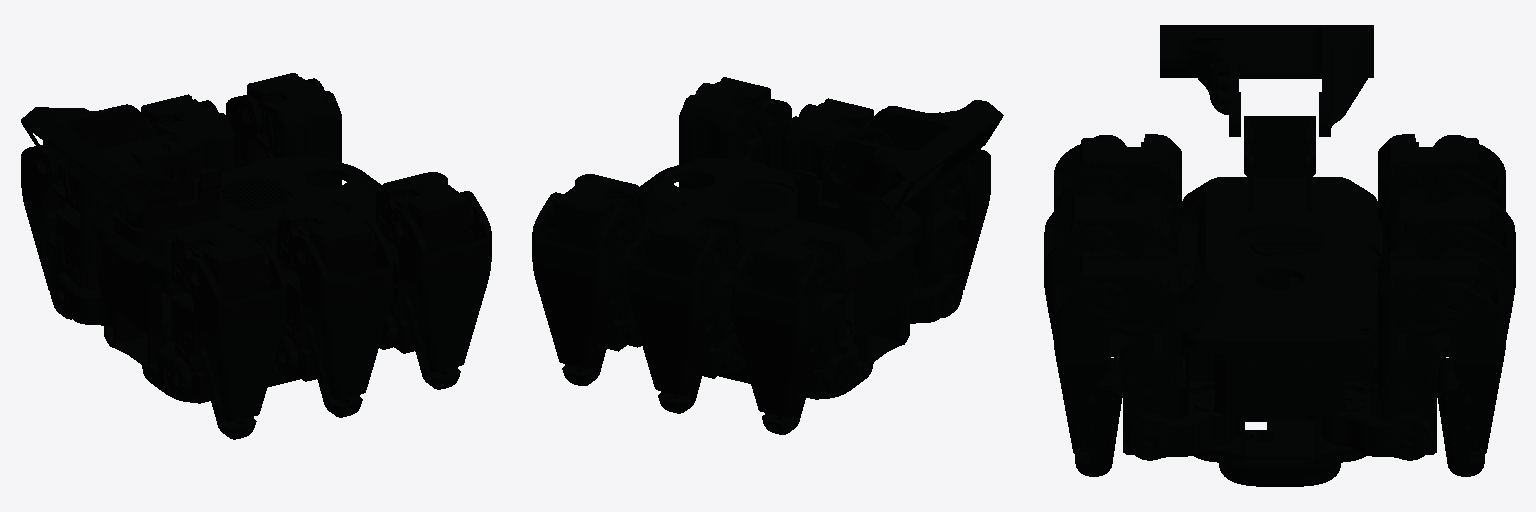
robot.urdf — s6lr_tracking_controller:
<?xml version="1.0"?>
<!--
  Browser URDF generated from Tracking_controller/xml/S6LR_v1.xml.
  MJCF meshes are authored in parent CAD frames. Each visual offset below is
  the negative of its true hinge pivot so the mesh rotates about the same axis
  as the controller model without the previous double translation.
-->
<robot name="s6lr_tracking_controller">
  <material name="robot_black">
    <color rgba="0.025 0.03 0.03 1"/>
  </material>
  <link name="torso">

    <visual name="torso_1">
      <origin xyz="0 0 0" rpy="0 0 0"/>
      <geometry>
        <mesh filename="xml_Files/vim_top_cover.stl" scale="0.001 0.001 0.001"/>
      </geometry>
      <material name="robot_black"/>
    </visual>

    <visual name="torso_2">
      <origin xyz="0 0 0" rpy="0 0 0"/>
      <geometry>
        <mesh filename="xml_Files/vim base.stl" scale="0.001 0.001 0.001"/>
      </geometry>
      <material name="robot_black"/>
    </visual>

    <visual name="torso_3">
      <origin xyz="0 0 0" rpy="0 0 0"/>
      <geometry>
        <mesh filename="xml_Files/main body mid.stl" scale="0.001 0.001 0.001"/>
      </geometry>
      <material name="robot_black"/>
    </visual>

    <visual name="torso_4">
      <origin xyz="0 0 0" rpy="0 0 0"/>
      <geometry>
        <mesh filename="xml_Files/main body lower.stl" scale="0.001 0.001 0.001"/>
      </geometry>
      <material name="robot_black"/>
    </visual>

    <visual name="torso_5">
      <origin xyz="0 0 0" rpy="0 0 0"/>
      <geometry>
        <mesh filename="xml_Files/lower base.stl" scale="0.001 0.001 0.001"/>
      </geometry>
      <material name="robot_black"/>
    </visual>

    <visual name="torso_6">
      <origin xyz="0 0 0" rpy="0 0 0"/>
      <geometry>
        <mesh filename="xml_Files/camera holder A.stl" scale="0.001 0.001 0.001"/>
      </geometry>
      <material name="robot_black"/>
    </visual>

    <visual name="torso_7">
      <origin xyz="0 0 0" rpy="0 0 0"/>
      <geometry>
        <mesh filename="xml_Files/camera holder B.stl" scale="0.001 0.001 0.001"/>
      </geometry>
      <material name="robot_black"/>
    </visual>

    <visual name="torso_8">
      <origin xyz="0 0 0" rpy="0 0 0"/>
      <geometry>
        <mesh filename="xml_Files/motor pitch roll holder.stl" scale="0.001 0.001 0.001"/>
      </geometry>
      <material name="robot_black"/>
    </visual>

    <visual name="torso_9">
      <origin xyz="0 0 0" rpy="0 0 0"/>
      <geometry>
        <mesh filename="xml_Files/base roll.stl" scale="0.001 0.001 0.001"/>
      </geometry>
      <material name="robot_black"/>
    </visual>

    <visual name="torso_10">
      <origin xyz="0 0 0" rpy="0 0 0"/>
      <geometry>
        <mesh filename="xml_Files/hip motor.stl" scale="0.001 0.001 0.001"/>
      </geometry>
      <material name="robot_black"/>
    </visual>
  </link>

  <!-- Leg 1: right front -->
  <joint name="hip_joint_1" type="revolute">
    <parent link="torso"/>
    <child link="hip_1"/>
    <origin xyz="-0.05 0.0245 -0.0415" rpy="0 0 0"/>
    <axis xyz="0 0 1"/>
    <limit lower="-1" upper="1" effort="5" velocity="3"/>
  </joint>
  <link name="hip_1">

    <visual name="hip_frame_1">
      <origin xyz="0 -0.028 0.0415" rpy="0 0 0"/>
      <geometry>
        <mesh filename="xml_Files/hip frame right mid.stl" scale="0.001 0.001 0.001"/>
      </geometry>
      <material name="robot_black"/>
    </visual>
  </link>

  <joint name="femur_joint_1" type="revolute">
    <parent link="hip_1"/>
    <child link="femur_1"/>
    <origin xyz="0 0.024 0.0115" rpy="0 0 0"/>
    <axis xyz="1 0 0"/>
    <limit lower="-3" upper="3" effort="5" velocity="3"/>
  </joint>
  <link name="femur_1">

    <visual name="femur_1_1">
      <origin xyz="0 -0.052 0.03" rpy="0 0 0"/>
      <geometry>
        <mesh filename="xml_Files/Servo femur.stl" scale="0.001 0.001 0.001"/>
      </geometry>
      <material name="robot_black"/>
    </visual>

    <visual name="femur_1_2">
      <origin xyz="0 -0.052 0.03" rpy="0 0 0"/>
      <geometry>
        <mesh filename="xml_Files/Servo tibia.stl" scale="0.001 0.001 0.001"/>
      </geometry>
      <material name="robot_black"/>
    </visual>

    <visual name="femur_1_3">
      <origin xyz="0 -0.052 0.03" rpy="0 0 0"/>
      <geometry>
        <mesh filename="xml_Files/femur frame maini right.stl" scale="0.001 0.001 0.001"/>
      </geometry>
      <material name="robot_black"/>
    </visual>
  </link>

  <joint name="tibia_joint_1" type="revolute">
    <parent link="femur_1"/>
    <child link="tibia_1"/>
    <origin xyz="0 0.0165 0.054" rpy="0 0 0"/>
    <axis xyz="1 0 0"/>
    <limit lower="-3" upper="3" effort="5" velocity="3"/>
  </joint>
  <link name="tibia_1">

    <visual name="tibia_1_1">
      <origin xyz="0 -0.0685 -0.024" rpy="0 0 0"/>
      <geometry>
        <mesh filename="xml_Files/tibia frame A.stl" scale="0.001 0.001 0.001"/>
      </geometry>
      <material name="robot_black"/>
    </visual>

    <visual name="tibia_1_2">
      <origin xyz="0 -0.0685 -0.024" rpy="0 0 0"/>
      <geometry>
        <mesh filename="xml_Files/tibia link A.stl" scale="0.001 0.001 0.001"/>
      </geometry>
      <material name="robot_black"/>
    </visual>

    <visual name="tibia_1_3">
      <origin xyz="0 -0.0685 -0.024" rpy="0 0 0"/>
      <geometry>
        <mesh filename="xml_Files/tibia link B.stl" scale="0.001 0.001 0.001"/>
      </geometry>
      <material name="robot_black"/>
    </visual>

    <visual name="tibia_1_4">
      <origin xyz="0 -0.0685 -0.024" rpy="0 0 0"/>
      <geometry>
        <mesh filename="xml_Files/tibia base.stl" scale="0.001 0.001 0.001"/>
      </geometry>
      <material name="robot_black"/>
    </visual>
  </link>

  <!-- Leg 2: left front -->
  <joint name="hip_joint_2" type="revolute">
    <parent link="torso"/>
    <child link="hip_2"/>
    <origin xyz="-0.05 -0.0245 -0.0415" rpy="0 0 0"/>
    <axis xyz="0 0 1"/>
    <limit lower="-1" upper="1" effort="5" velocity="3"/>
  </joint>
  <link name="hip_2">

    <visual name="hip_frame_2">
      <origin xyz="0 0.028 0.0415" rpy="0 0 0"/>
      <geometry>
        <mesh filename="xml_Files/hip frame right mid.stl" scale="0.001 -0.001 0.001"/>
      </geometry>
      <material name="robot_black"/>
    </visual>
  </link>

  <joint name="femur_joint_2" type="revolute">
    <parent link="hip_2"/>
    <child link="femur_2"/>
    <origin xyz="0 -0.024 0.0115" rpy="0 0 0"/>
    <axis xyz="1 0 0"/>
    <limit lower="-3" upper="3" effort="5" velocity="3"/>
  </joint>
  <link name="femur_2">

    <visual name="femur_2_1">
      <origin xyz="0 0.052 0.03" rpy="0 0 0"/>
      <geometry>
        <mesh filename="xml_Files/Servo femur.stl" scale="0.001 -0.001 0.001"/>
      </geometry>
      <material name="robot_black"/>
    </visual>

    <visual name="femur_2_2">
      <origin xyz="0 0.052 0.03" rpy="0 0 0"/>
      <geometry>
        <mesh filename="xml_Files/Servo tibia.stl" scale="0.001 -0.001 0.001"/>
      </geometry>
      <material name="robot_black"/>
    </visual>

    <visual name="femur_2_3">
      <origin xyz="0 0.052 0.03" rpy="0 0 0"/>
      <geometry>
        <mesh filename="xml_Files/femur frame maini right.stl" scale="0.001 -0.001 0.001"/>
      </geometry>
      <material name="robot_black"/>
    </visual>
  </link>

  <joint name="tibia_joint_2" type="revolute">
    <parent link="femur_2"/>
    <child link="tibia_2"/>
    <origin xyz="0 -0.0165 0.054" rpy="0 0 0"/>
    <axis xyz="1 0 0"/>
    <limit lower="-3" upper="3" effort="5" velocity="3"/>
  </joint>
  <link name="tibia_2">

    <visual name="tibia_2_1">
      <origin xyz="0 0.0685 -0.024" rpy="0 0 0"/>
      <geometry>
        <mesh filename="xml_Files/tibia frame A.stl" scale="0.001 -0.001 0.001"/>
      </geometry>
      <material name="robot_black"/>
    </visual>

    <visual name="tibia_2_2">
      <origin xyz="0 0.0685 -0.024" rpy="0 0 0"/>
      <geometry>
        <mesh filename="xml_Files/tibia link A.stl" scale="0.001 -0.001 0.001"/>
      </geometry>
      <material name="robot_black"/>
    </visual>

    <visual name="tibia_2_3">
      <origin xyz="0 0.0685 -0.024" rpy="0 0 0"/>
      <geometry>
        <mesh filename="xml_Files/tibia link B.stl" scale="0.001 -0.001 0.001"/>
      </geometry>
      <material name="robot_black"/>
    </visual>

    <visual name="tibia_2_4">
      <origin xyz="0 0.0685 -0.024" rpy="0 0 0"/>
      <geometry>
        <mesh filename="xml_Files/tibia base.stl" scale="0.001 -0.001 0.001"/>
      </geometry>
      <material name="robot_black"/>
    </visual>
  </link>

  <!-- Leg 3: right middle -->
  <joint name="hip_joint_3" type="revolute">
    <parent link="torso"/>
    <child link="hip_3"/>
    <origin xyz="0 0.028 -0.0415" rpy="0 0 0"/>
    <axis xyz="0 0 1"/>
    <limit lower="-1" upper="1" effort="5" velocity="3"/>
  </joint>
  <link name="hip_3">

    <visual name="hip_frame_3">
      <origin xyz="0 -0.028 0.0415" rpy="0 0 0"/>
      <geometry>
        <mesh filename="xml_Files/hip frame right mid.stl" scale="0.001 0.001 0.001"/>
      </geometry>
      <material name="robot_black"/>
    </visual>
  </link>

  <joint name="femur_joint_3" type="revolute">
    <parent link="hip_3"/>
    <child link="femur_3"/>
    <origin xyz="0 0.024 0.0115" rpy="0 0 0"/>
    <axis xyz="1 0 0"/>
    <limit lower="-3" upper="3" effort="5" velocity="3"/>
  </joint>
  <link name="femur_3">

    <visual name="femur_3_1">
      <origin xyz="0 -0.052 0.03" rpy="0 0 0"/>
      <geometry>
        <mesh filename="xml_Files/Servo femur.stl" scale="0.001 0.001 0.001"/>
      </geometry>
      <material name="robot_black"/>
    </visual>

    <visual name="femur_3_2">
      <origin xyz="0 -0.052 0.03" rpy="0 0 0"/>
      <geometry>
        <mesh filename="xml_Files/Servo tibia.stl" scale="0.001 0.001 0.001"/>
      </geometry>
      <material name="robot_black"/>
    </visual>

    <visual name="femur_3_3">
      <origin xyz="0 -0.052 0.03" rpy="0 0 0"/>
      <geometry>
        <mesh filename="xml_Files/femur frame maini right.stl" scale="0.001 0.001 0.001"/>
      </geometry>
      <material name="robot_black"/>
    </visual>
  </link>

  <joint name="tibia_joint_3" type="revolute">
    <parent link="femur_3"/>
    <child link="tibia_3"/>
    <origin xyz="0 0.0165 0.054" rpy="0 0 0"/>
    <axis xyz="1 0 0"/>
    <limit lower="-3" upper="3" effort="5" velocity="3"/>
  </joint>
  <link name="tibia_3">

    <visual name="tibia_3_1">
      <origin xyz="0 -0.0685 -0.024" rpy="0 0 0"/>
      <geometry>
        <mesh filename="xml_Files/tibia frame A.stl" scale="0.001 0.001 0.001"/>
      </geometry>
      <material name="robot_black"/>
    </visual>

    <visual name="tibia_3_2">
      <origin xyz="0 -0.0685 -0.024" rpy="0 0 0"/>
      <geometry>
        <mesh filename="xml_Files/tibia link A.stl" scale="0.001 0.001 0.001"/>
      </geometry>
      <material name="robot_black"/>
    </visual>

    <visual name="tibia_3_3">
      <origin xyz="0 -0.0685 -0.024" rpy="0 0 0"/>
      <geometry>
        <mesh filename="xml_Files/tibia link B.stl" scale="0.001 0.001 0.001"/>
      </geometry>
      <material name="robot_black"/>
    </visual>

    <visual name="tibia_3_4">
      <origin xyz="0 -0.0685 -0.024" rpy="0 0 0"/>
      <geometry>
        <mesh filename="xml_Files/tibia base.stl" scale="0.001 0.001 0.001"/>
      </geometry>
      <material name="robot_black"/>
    </visual>
  </link>

  <!-- Leg 4: left middle -->
  <joint name="hip_joint_4" type="revolute">
    <parent link="torso"/>
    <child link="hip_4"/>
    <origin xyz="0 -0.028 -0.0415" rpy="0 0 0"/>
    <axis xyz="0 0 1"/>
    <limit lower="-1" upper="1" effort="5" velocity="3"/>
  </joint>
  <link name="hip_4">

    <visual name="hip_frame_4">
      <origin xyz="0 0.028 0.0415" rpy="0 0 0"/>
      <geometry>
        <mesh filename="xml_Files/hip frame right mid.stl" scale="0.001 -0.001 0.001"/>
      </geometry>
      <material name="robot_black"/>
    </visual>
  </link>

  <joint name="femur_joint_4" type="revolute">
    <parent link="hip_4"/>
    <child link="femur_4"/>
    <origin xyz="0 -0.024 0.0115" rpy="0 0 0"/>
    <axis xyz="1 0 0"/>
    <limit lower="-3" upper="3" effort="5" velocity="3"/>
  </joint>
  <link name="femur_4">

    <visual name="femur_4_1">
      <origin xyz="0 0.052 0.03" rpy="0 0 0"/>
      <geometry>
        <mesh filename="xml_Files/Servo femur.stl" scale="0.001 -0.001 0.001"/>
      </geometry>
      <material name="robot_black"/>
    </visual>

    <visual name="femur_4_2">
      <origin xyz="0 0.052 0.03" rpy="0 0 0"/>
      <geometry>
        <mesh filename="xml_Files/Servo tibia.stl" scale="0.001 -0.001 0.001"/>
      </geometry>
      <material name="robot_black"/>
    </visual>

    <visual name="femur_4_3">
      <origin xyz="0 0.052 0.03" rpy="0 0 0"/>
      <geometry>
        <mesh filename="xml_Files/femur frame maini right.stl" scale="0.001 -0.001 0.001"/>
      </geometry>
      <material name="robot_black"/>
    </visual>
  </link>

  <joint name="tibia_joint_4" type="revolute">
    <parent link="femur_4"/>
    <child link="tibia_4"/>
    <origin xyz="0 -0.0165 0.054" rpy="0 0 0"/>
    <axis xyz="1 0 0"/>
    <limit lower="-3" upper="3" effort="5" velocity="3"/>
  </joint>
  <link name="tibia_4">

    <visual name="tibia_4_1">
      <origin xyz="0 0.0685 -0.024" rpy="0 0 0"/>
      <geometry>
        <mesh filename="xml_Files/tibia frame A.stl" scale="0.001 -0.001 0.001"/>
      </geometry>
      <material name="robot_black"/>
    </visual>

    <visual name="tibia_4_2">
      <origin xyz="0 0.0685 -0.024" rpy="0 0 0"/>
      <geometry>
        <mesh filename="xml_Files/tibia link A.stl" scale="0.001 -0.001 0.001"/>
      </geometry>
      <material name="robot_black"/>
    </visual>

    <visual name="tibia_4_3">
      <origin xyz="0 0.0685 -0.024" rpy="0 0 0"/>
      <geometry>
        <mesh filename="xml_Files/tibia link B.stl" scale="0.001 -0.001 0.001"/>
      </geometry>
      <material name="robot_black"/>
    </visual>

    <visual name="tibia_4_4">
      <origin xyz="0 0.0685 -0.024" rpy="0 0 0"/>
      <geometry>
        <mesh filename="xml_Files/tibia base.stl" scale="0.001 -0.001 0.001"/>
      </geometry>
      <material name="robot_black"/>
    </visual>
  </link>

  <!-- Leg 5: right rear -->
  <joint name="hip_joint_5" type="revolute">
    <parent link="torso"/>
    <child link="hip_5"/>
    <origin xyz="0.05 0.0245 -0.0415" rpy="0 0 0"/>
    <axis xyz="0 0 1"/>
    <limit lower="-1" upper="1" effort="5" velocity="3"/>
  </joint>
  <link name="hip_5">

    <visual name="hip_frame_5">
      <origin xyz="0 -0.028 0.0415" rpy="0 0 0"/>
      <geometry>
        <mesh filename="xml_Files/hip frame right mid.stl" scale="0.001 0.001 0.001"/>
      </geometry>
      <material name="robot_black"/>
    </visual>
  </link>

  <joint name="femur_joint_5" type="revolute">
    <parent link="hip_5"/>
    <child link="femur_5"/>
    <origin xyz="0 0.024 0.0115" rpy="0 0 0"/>
    <axis xyz="1 0 0"/>
    <limit lower="-3" upper="3" effort="5" velocity="3"/>
  </joint>
  <link name="femur_5">

    <visual name="femur_5_1">
      <origin xyz="0 -0.052 0.03" rpy="0 0 0"/>
      <geometry>
        <mesh filename="xml_Files/Servo femur.stl" scale="0.001 0.001 0.001"/>
      </geometry>
      <material name="robot_black"/>
    </visual>

    <visual name="femur_5_2">
      <origin xyz="0 -0.052 0.03" rpy="0 0 0"/>
      <geometry>
        <mesh filename="xml_Files/Servo tibia.stl" scale="0.001 0.001 0.001"/>
      </geometry>
      <material name="robot_black"/>
    </visual>

    <visual name="femur_5_3">
      <origin xyz="0 -0.052 0.03" rpy="0 0 0"/>
      <geometry>
        <mesh filename="xml_Files/femur frame maini right.stl" scale="0.001 0.001 0.001"/>
      </geometry>
      <material name="robot_black"/>
    </visual>
  </link>

  <joint name="tibia_joint_5" type="revolute">
    <parent link="femur_5"/>
    <child link="tibia_5"/>
    <origin xyz="0 0.0165 0.054" rpy="0 0 0"/>
    <axis xyz="1 0 0"/>
    <limit lower="-3" upper="3" effort="5" velocity="3"/>
  </joint>
  <link name="tibia_5">

    <visual name="tibia_5_1">
      <origin xyz="0 -0.0685 -0.024" rpy="0 0 0"/>
      <geometry>
        <mesh filename="xml_Files/tibia frame A.stl" scale="0.001 0.001 0.001"/>
      </geometry>
      <material name="robot_black"/>
    </visual>

    <visual name="tibia_5_2">
      <origin xyz="0 -0.0685 -0.024" rpy="0 0 0"/>
      <geometry>
        <mesh filename="xml_Files/tibia link A.stl" scale="0.001 0.001 0.001"/>
      </geometry>
      <material name="robot_black"/>
    </visual>

    <visual name="tibia_5_3">
      <origin xyz="0 -0.0685 -0.024" rpy="0 0 0"/>
      <geometry>
        <mesh filename="xml_Files/tibia link B.stl" scale="0.001 0.001 0.001"/>
      </geometry>
      <material name="robot_black"/>
    </visual>

    <visual name="tibia_5_4">
      <origin xyz="0 -0.0685 -0.024" rpy="0 0 0"/>
      <geometry>
        <mesh filename="xml_Files/tibia base.stl" scale="0.001 0.001 0.001"/>
      </geometry>
      <material name="robot_black"/>
    </visual>
  </link>

  <!-- Leg 6: left rear -->
  <joint name="hip_joint_6" type="revolute">
    <parent link="torso"/>
    <child link="hip_6"/>
    <origin xyz="0.05 -0.0245 -0.0415" rpy="0 0 0"/>
    <axis xyz="0 0 1"/>
    <limit lower="-1" upper="1" effort="5" velocity="3"/>
  </joint>
  <link name="hip_6">

    <visual name="hip_frame_6">
      <origin xyz="0 0.028 0.0415" rpy="0 0 0"/>
      <geometry>
        <mesh filename="xml_Files/hip frame right mid.stl" scale="0.001 -0.001 0.001"/>
      </geometry>
      <material name="robot_black"/>
    </visual>
  </link>

  <joint name="femur_joint_6" type="revolute">
    <parent link="hip_6"/>
    <child link="femur_6"/>
    <origin xyz="0 -0.024 0.0115" rpy="0 0 0"/>
    <axis xyz="1 0 0"/>
    <limit lower="-3" upper="3" effort="5" velocity="3"/>
  </joint>
  <link name="femur_6">

    <visual name="femur_6_1">
      <origin xyz="0 0.052 0.03" rpy="0 0 0"/>
      <geometry>
        <mesh filename="xml_Files/Servo femur.stl" scale="0.001 -0.001 0.001"/>
      </geometry>
      <material name="robot_black"/>
    </visual>

    <visual name="femur_6_2">
      <origin xyz="0 0.052 0.03" rpy="0 0 0"/>
      <geometry>
        <mesh filename="xml_Files/Servo tibia.stl" scale="0.001 -0.001 0.001"/>
      </geometry>
      <material name="robot_black"/>
    </visual>

    <visual name="femur_6_3">
      <origin xyz="0 0.052 0.03" rpy="0 0 0"/>
      <geometry>
        <mesh filename="xml_Files/femur frame maini right.stl" scale="0.001 -0.001 0.001"/>
      </geometry>
      <material name="robot_black"/>
    </visual>
  </link>

  <joint name="tibia_joint_6" type="revolute">
    <parent link="femur_6"/>
    <child link="tibia_6"/>
    <origin xyz="0 -0.0165 0.054" rpy="0 0 0"/>
    <axis xyz="1 0 0"/>
    <limit lower="-3" upper="3" effort="5" velocity="3"/>
  </joint>
  <link name="tibia_6">

    <visual name="tibia_6_1">
      <origin xyz="0 0.0685 -0.024" rpy="0 0 0"/>
      <geometry>
        <mesh filename="xml_Files/tibia frame A.stl" scale="0.001 -0.001 0.001"/>
      </geometry>
      <material name="robot_black"/>
    </visual>

    <visual name="tibia_6_2">
      <origin xyz="0 0.0685 -0.024" rpy="0 0 0"/>
      <geometry>
        <mesh filename="xml_Files/tibia link A.stl" scale="0.001 -0.001 0.001"/>
      </geometry>
      <material name="robot_black"/>
    </visual>

    <visual name="tibia_6_3">
      <origin xyz="0 0.0685 -0.024" rpy="0 0 0"/>
      <geometry>
        <mesh filename="xml_Files/tibia link B.stl" scale="0.001 -0.001 0.001"/>
      </geometry>
      <material name="robot_black"/>
    </visual>

    <visual name="tibia_6_4">
      <origin xyz="0 0.0685 -0.024" rpy="0 0 0"/>
      <geometry>
        <mesh filename="xml_Files/tibia base.stl" scale="0.001 -0.001 0.001"/>
      </geometry>
      <material name="robot_black"/>
    </visual>
  </link>
</robot>

--- Facts derived from the render (not from the file) ---
Views: 3 orthographic renders of the robot side by side, from view 1: azimuth 30°, elevation 25°; view 2: azimuth 150°, elevation 25°; view 3: azimuth 270°, elevation 25°.
Model s6lr_tracking_controller with 19 links and 18 joints (18 revolute), rooted at torso, posed every joint at zero.
Links seen in each view (by area): view 1: torso, tibia_6, tibia_2, tibia_4, femur_2, femur_4, femur_5, femur_6, femur_1, femur_3, tibia_1, tibia_5 (+3 smaller); view 2: torso, tibia_3, tibia_5, tibia_1, femur_1, femur_3, femur_6, femur_5, femur_2, femur_4, tibia_2, hip_2 (+3 smaller); view 3: torso, femur_5, femur_6, tibia_5, tibia_6, femur_2, femur_1, hip_5, hip_6, femur_3, femur_4, tibia_3 (+3 smaller).
Link boxes in pixels (box(x1,y1,x2,y2)): torso: box(21, 104, 389, 402); tibia_6: box(390, 191, 491, 389); tibia_2: box(185, 241, 286, 439); tibia_4: box(291, 219, 392, 417); femur_2: box(171, 222, 269, 403); femur_4: box(277, 200, 375, 381); femur_5: box(247, 73, 341, 187); femur_6: box(376, 172, 473, 353); femur_1: box(43, 141, 109, 290); femur_3: box(141, 94, 234, 178); tibia_1: box(21, 144, 71, 319); tibia_5: box(226, 78, 324, 168); torso: box(631, 100, 1003, 398); tibia_3: box(628, 220, 727, 413); tibia_5: box(532, 192, 631, 385); tibia_1: box(732, 241, 830, 434); femur_1: box(749, 222, 844, 399); femur_3: box(645, 201, 740, 378); femur_6: box(679, 77, 770, 188); femur_5: box(549, 174, 645, 351); femur_2: box(904, 162, 969, 289); femur_4: box(782, 98, 873, 180); tibia_2: box(942, 149, 990, 317); hip_2: box(901, 272, 962, 327); torso: box(1160, 25, 1382, 486); femur_5: box(1378, 247, 1478, 454); femur_6: box(1081, 247, 1181, 454); tibia_5: box(1431, 248, 1505, 476); tibia_6: box(1054, 248, 1128, 476); femur_2: box(1081, 134, 1181, 257); femur_1: box(1378, 134, 1478, 257); hip_5: box(1321, 384, 1433, 460); hip_6: box(1126, 384, 1238, 460); femur_3: box(1387, 191, 1488, 397); femur_4: box(1071, 191, 1172, 397); tibia_3: box(1441, 191, 1515, 339).
Bounding box of the posed robot: 0.1639 × 0.176 × 0.1277 m (x, y, z).
58 mesh visuals loaded from 18 distinct referenced files (18 binary STL).
